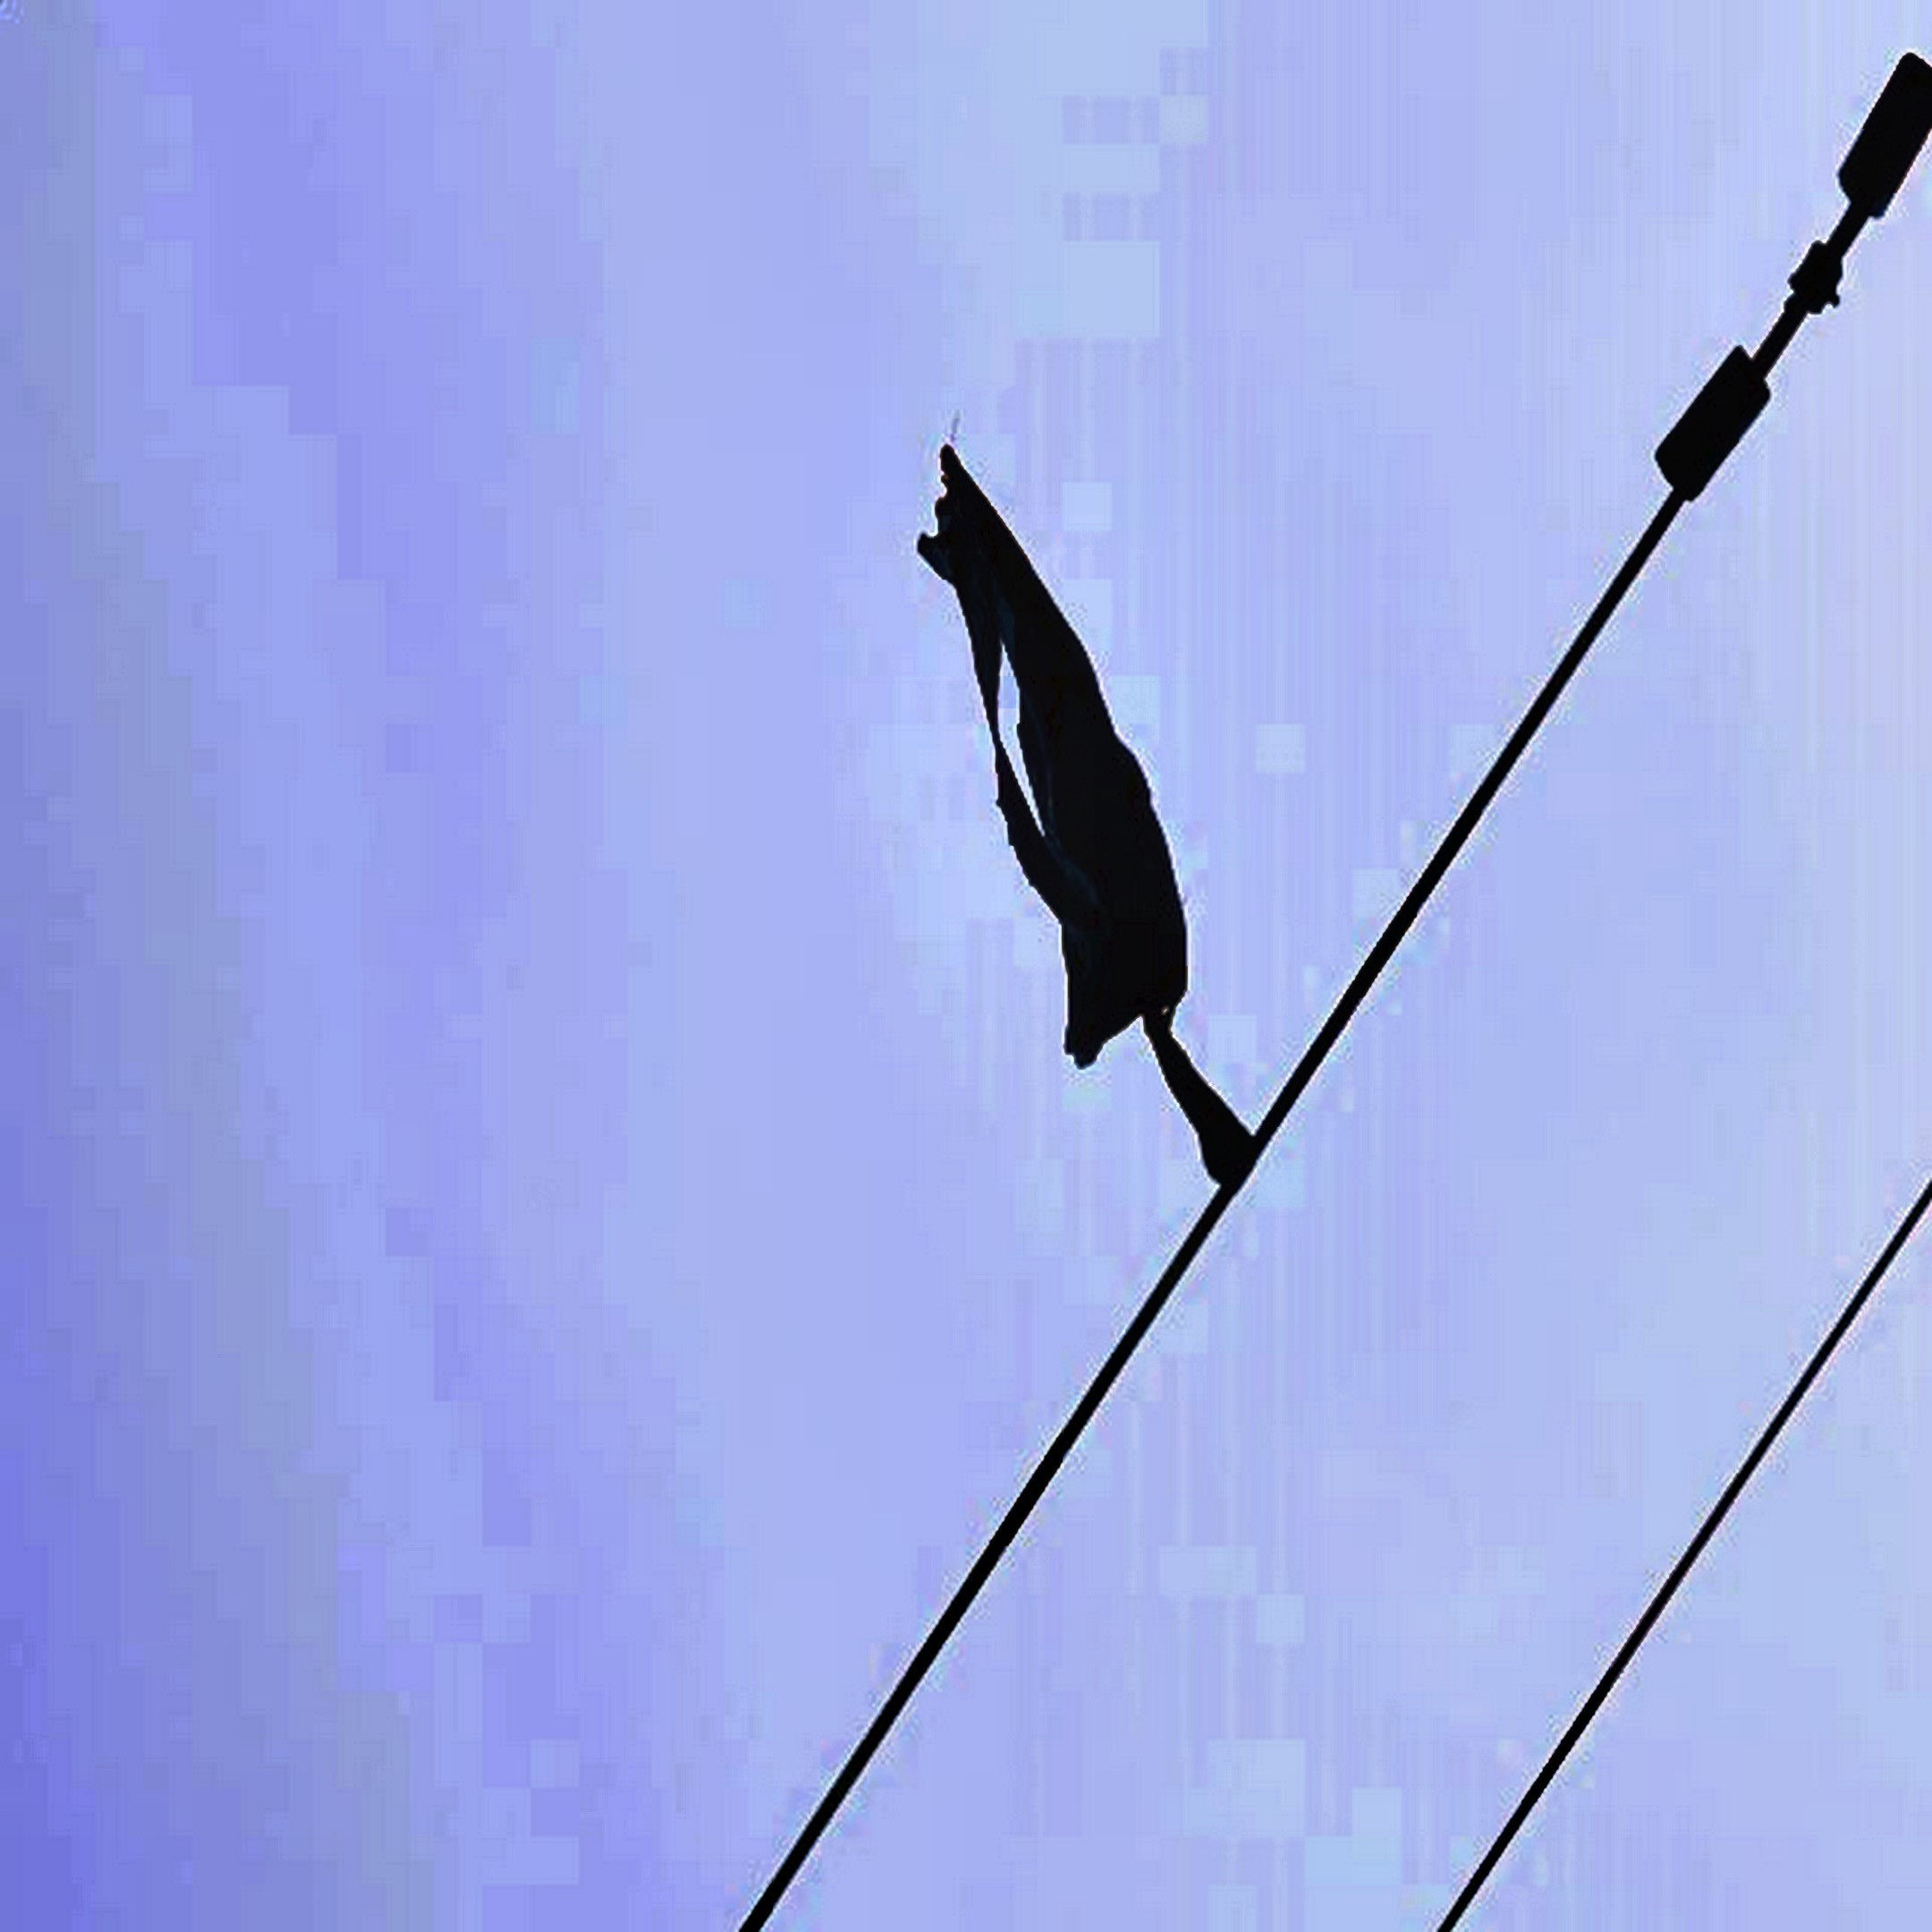wire foreign body: (918, 464, 1353, 1279)
